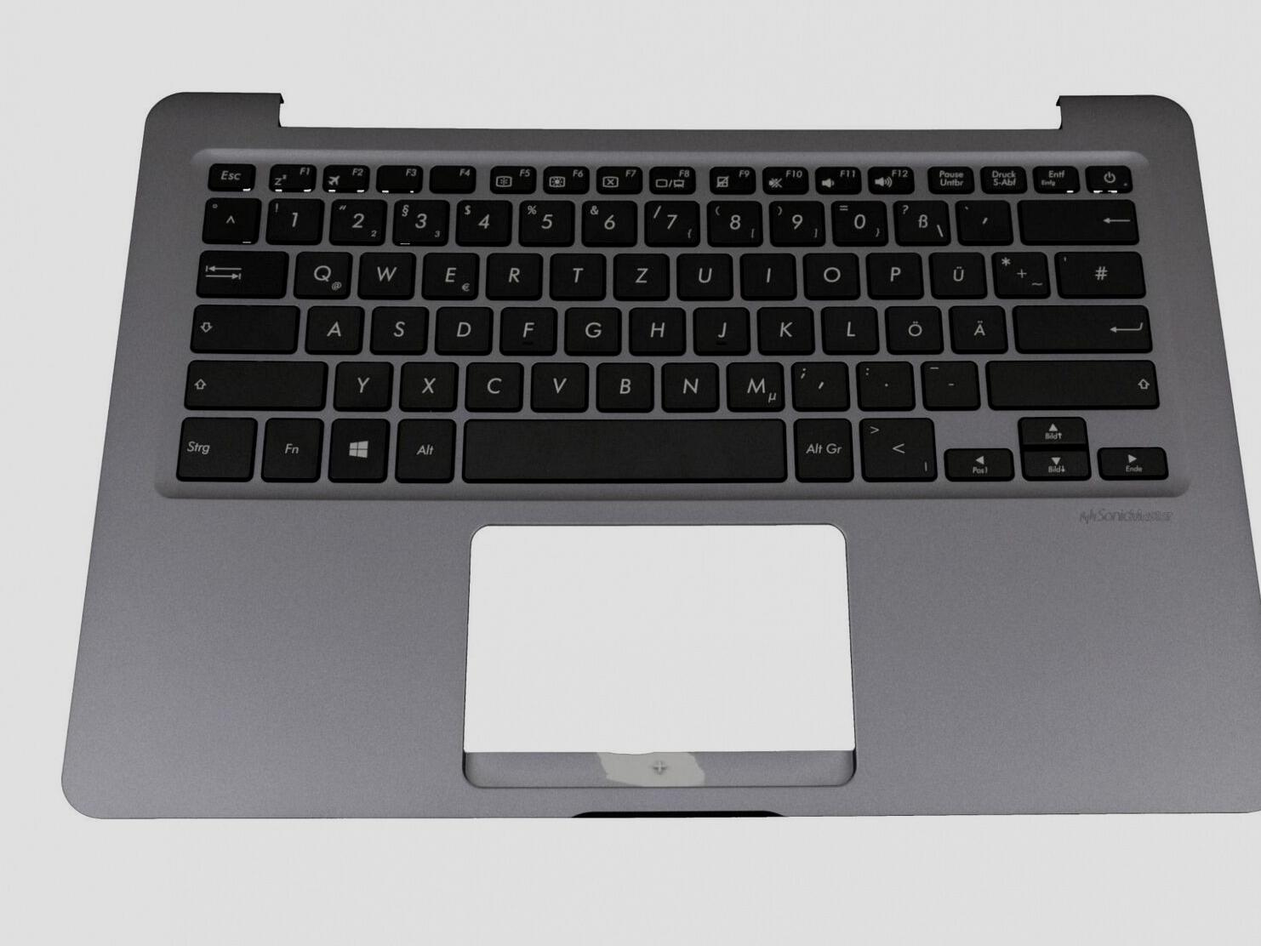0: (830, 197, 887, 243)
1: (265, 195, 322, 242)
2: (328, 196, 386, 243)
3: (391, 197, 448, 244)
4: (454, 197, 511, 244)
5: (516, 197, 574, 244)
6: (579, 197, 636, 244)
7: (643, 197, 699, 244)
8: (705, 197, 762, 245)
9: (769, 199, 826, 245)
a: (304, 302, 363, 353)
accent: (956, 197, 1011, 242)
ae: (949, 302, 1007, 352)
alt-left: (394, 416, 455, 482)
altgr-right: (792, 415, 853, 481)
b: (594, 360, 654, 410)
c: (464, 359, 523, 409)
caret: (201, 195, 259, 242)
comma: (790, 359, 848, 408)
d: (433, 303, 493, 354)
del: (1018, 197, 1137, 242)
e: (420, 249, 478, 298)
enter: (1013, 300, 1152, 351)
f: (499, 304, 556, 354)
g: (562, 304, 621, 353)
h: (628, 305, 687, 354)
hash: (1055, 248, 1145, 297)
i: (739, 250, 796, 298)
j: (692, 303, 750, 353)
k: (756, 303, 814, 353)
keyboard: (154, 146, 1188, 505)
l: (820, 303, 877, 352)
less: (857, 414, 938, 481)
m: (724, 358, 785, 409)
minus: (918, 359, 979, 407)
n: (659, 359, 720, 410)
o: (802, 249, 859, 298)
oe: (884, 302, 943, 352)
p: (865, 249, 922, 297)
plus: (990, 248, 1047, 296)
point: (854, 359, 913, 408)
q: (292, 248, 352, 297)
r: (485, 250, 542, 299)
s: (369, 303, 427, 354)
shift-left: (183, 356, 326, 408)
shift-lock: (189, 301, 298, 351)
shift-right: (984, 356, 1159, 407)
space: (460, 416, 785, 482)
ss: (893, 197, 949, 243)
strg-left: (172, 413, 256, 481)
t: (548, 250, 605, 299)
tab: (195, 247, 287, 296)
u: (675, 249, 733, 299)
ue: (928, 249, 985, 296)
v: (529, 359, 589, 410)
w: (357, 248, 414, 297)
x: (398, 359, 458, 409)
y: (332, 359, 392, 409)
z: (612, 249, 670, 299)
